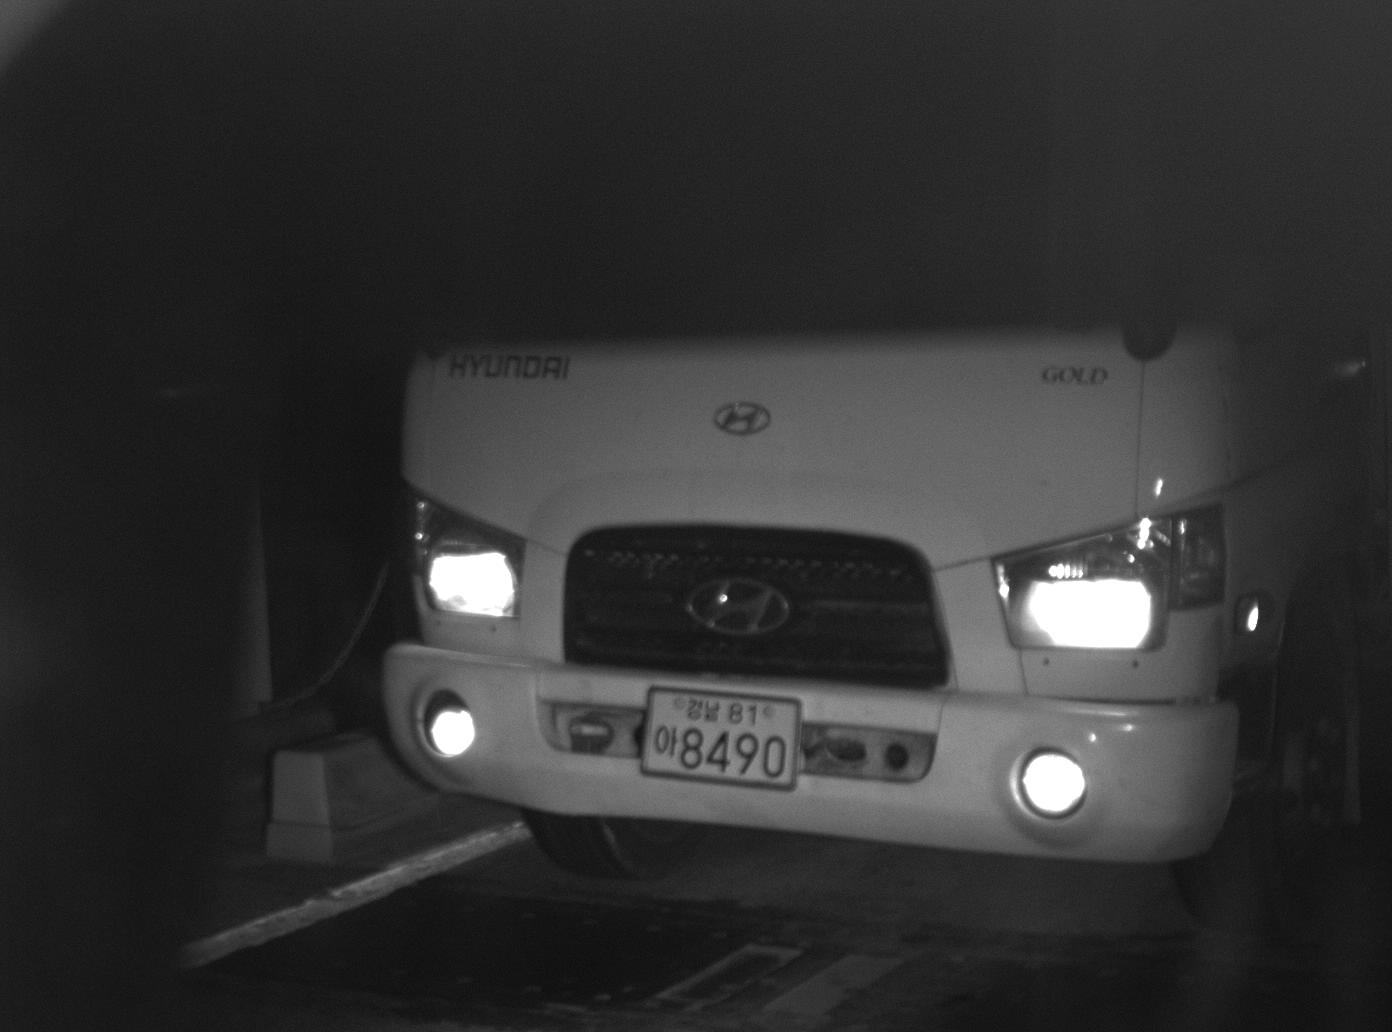car: (376, 326, 1389, 933)
plate: (638, 684, 802, 791)
